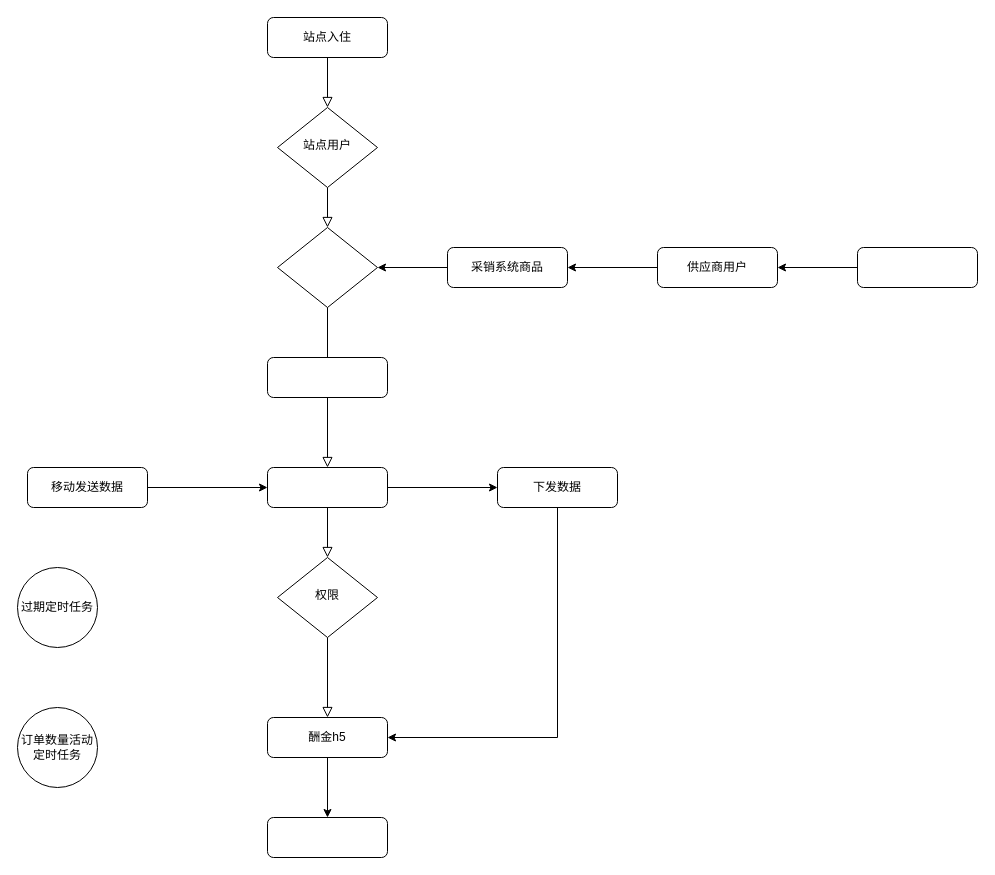
This 995x875 diagram has some shape labels left out. The centre of each missing label's shape, as x and y in pixels:
供应商入住: pixel 917 267
保存下发: pixel 327 487
提现: pixel 327 837
活动创建: pixel 327 377
站点商品: pixel 327 267
